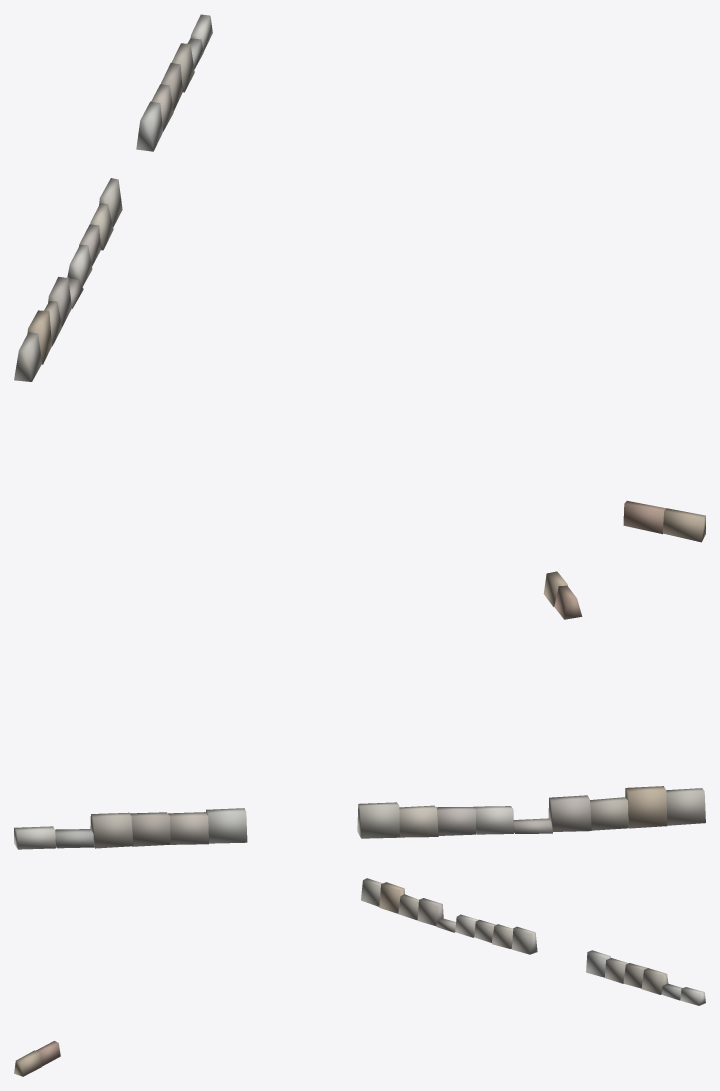
File: farm_-59_-46_far.glb
3 renders of one model, top to bottom at view 1: azimuth 30°, elevation 25°; view 2: azimuth 150°, elevation 25°; view 3: azimuth 270°, elevation 25°, orthographic. The views are drawn at different scales.
Parts seen in each view (by area): view 1: geometry_0; view 2: geometry_0; view 3: geometry_0.
Part boxes in pixels (x1,y1,x2,y2): geometry_0: (14, 14, 705, 542); geometry_0: (14, 571, 705, 849); geometry_0: (14, 878, 705, 1076).
Bounding box in the file's own units: 20.11 × 6.01 × 40.79.
